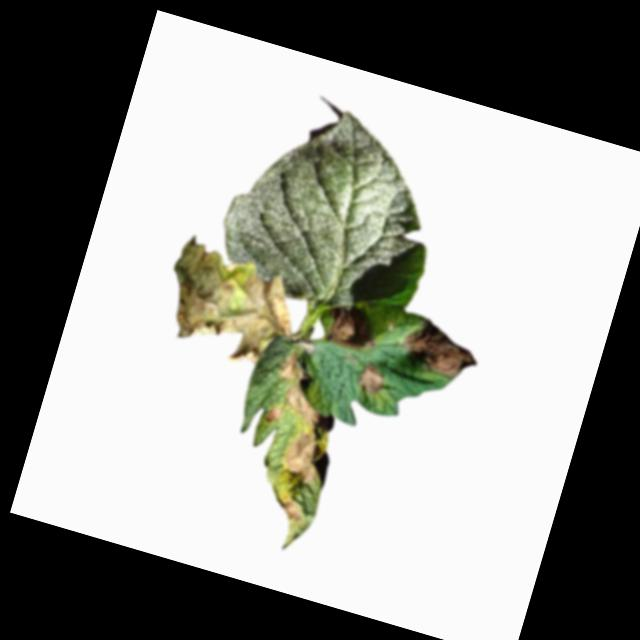Late_blight: (150, 232, 310, 380), (393, 312, 486, 386), (319, 297, 384, 356), (277, 429, 330, 487), (279, 383, 326, 427), (276, 345, 317, 389), (354, 358, 389, 397), (273, 492, 307, 522), (261, 402, 283, 425)
healthy: (206, 83, 463, 334)
